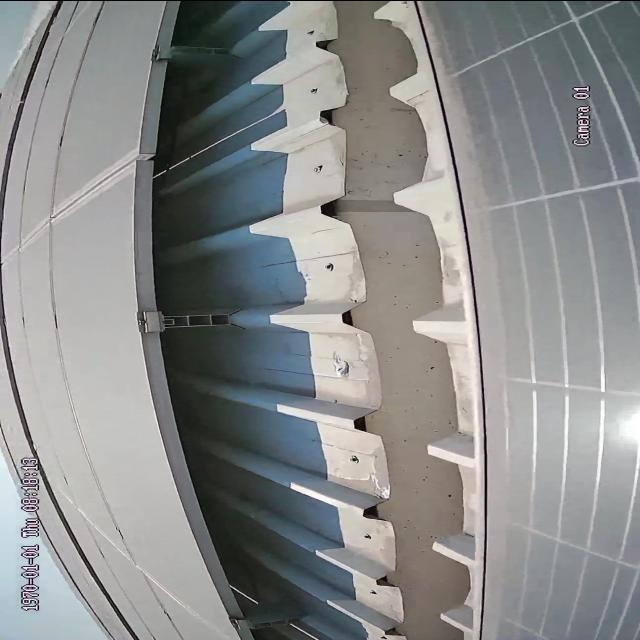interior panel: (6, 152, 137, 265)
outher panel: (139, 2, 486, 640)
